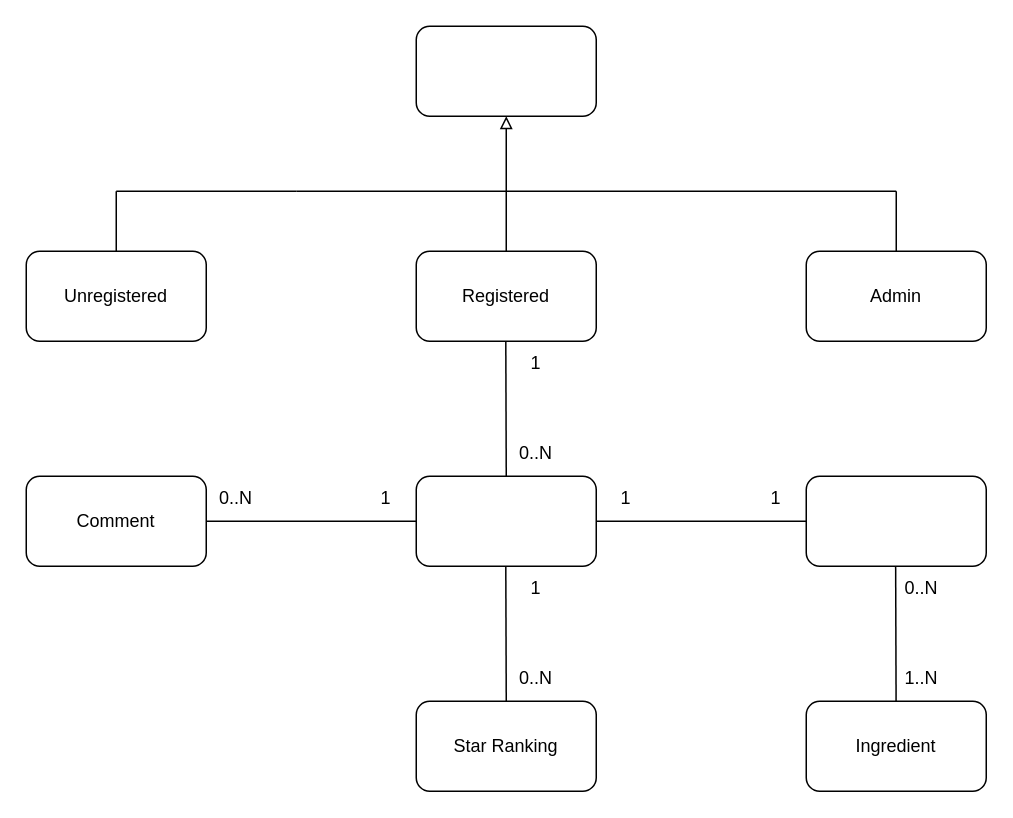
This 1013x818 diagram has some shape labels left out. Here are the shapes that lost their labels. From the top down, the centre of each, then its label:
the point at 505,70: User
the point at 505,520: Post
the point at 895,520: Recipe
